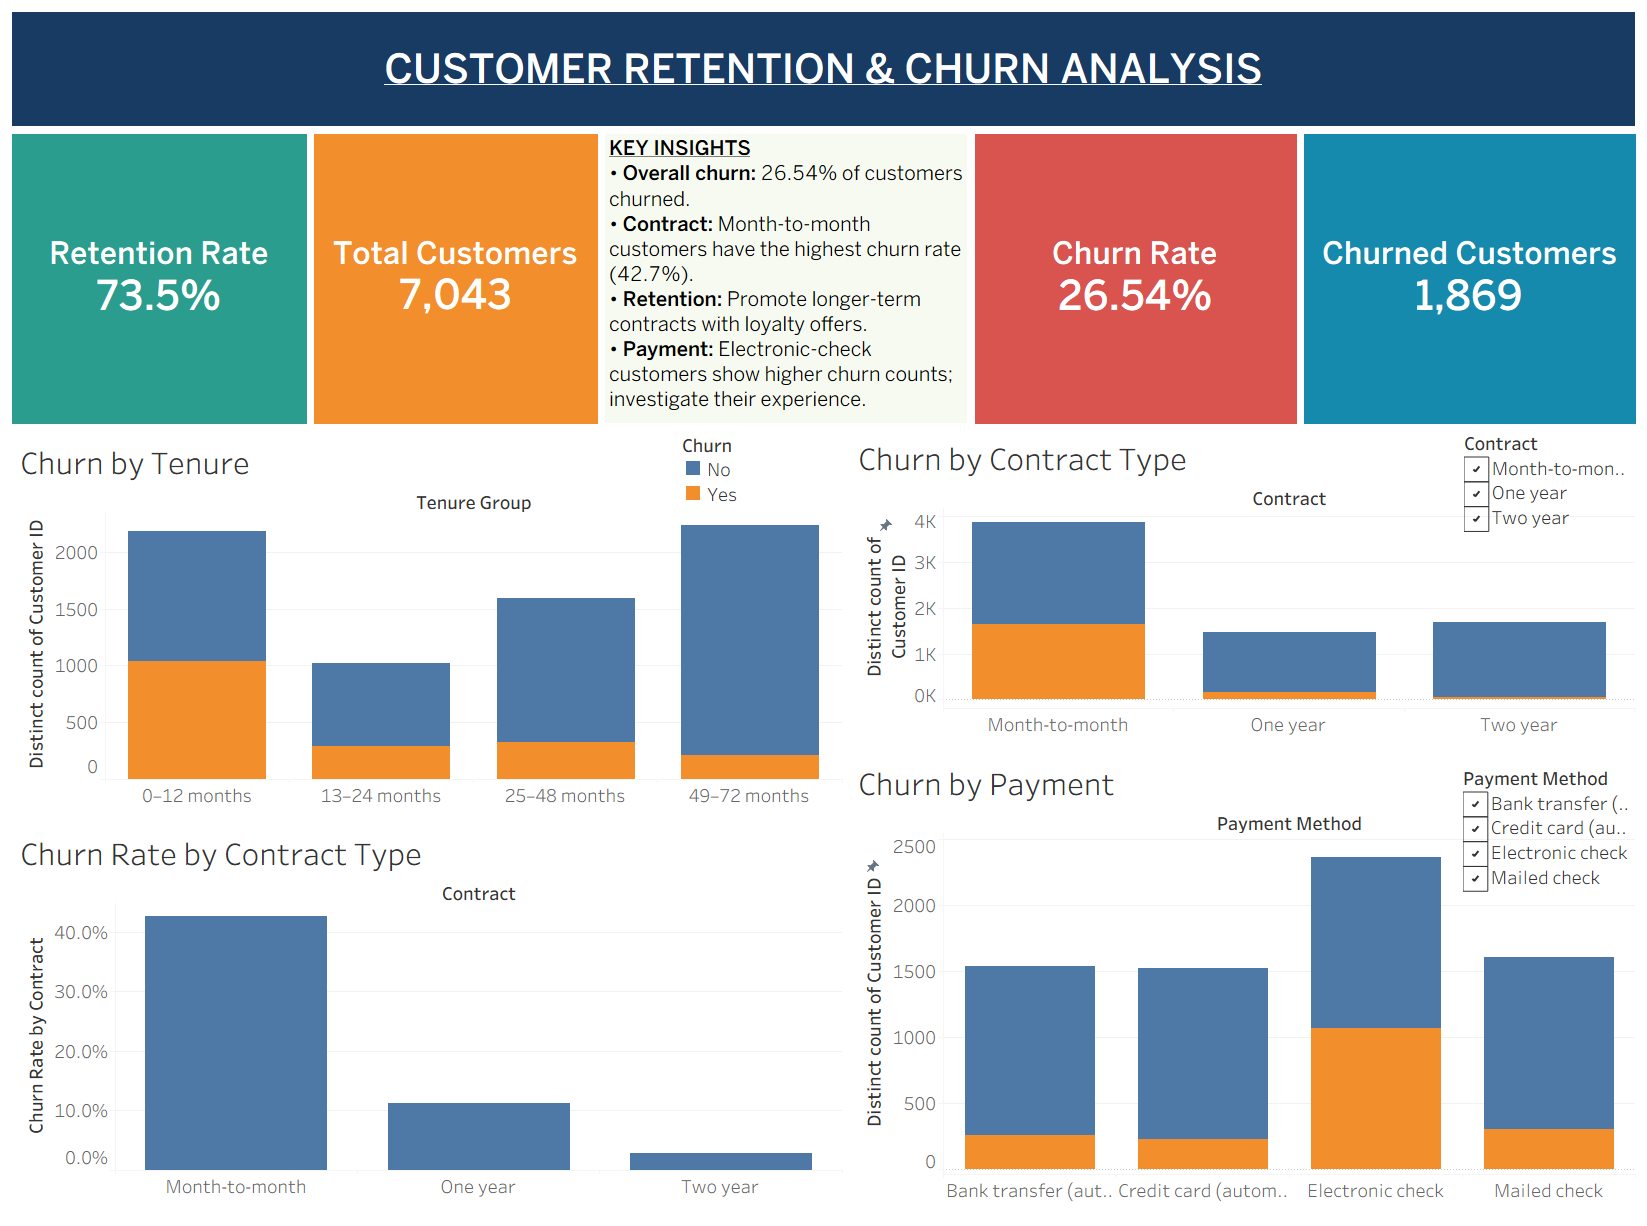

What the dashboard file says about the page in this screenshot:
{"tool":"tableau","page":{"name":"Dashboard 1","canvas":[1647,1226],"ordinal":0},"visuals":[{"type":"text","box":[8,8,1631,122.3]},{"type":"worksheet","title":"Retention Rate","mark":"Automatic","box":[8,130.3,302,296.7]},{"type":"worksheet","title":"Total Customers","mark":"Automatic","box":[310,130.3,291,296.7]},{"type":"text","box":[601,130.3,370,296.7]},{"type":"worksheet","title":"Churn Rate","mark":"Automatic","box":[971,130.3,329,296.7]},{"type":"worksheet","title":"Churned Customers","mark":"Automatic","box":[1300,130.3,339,296.7]},{"type":"worksheet","title":"Churn by Contract Type","mark":"Bar","rows":["customerID"],"cols":["Contract"],"box":[850,427,789,325]},{"type":"filter","title":"Churn Rate by Contract Type","param":"[federated.151535u0isl9la14sitns0xuhb5b].[none:Contract:nk]","box":[1464,429,168,148]},{"type":"legend","title":"Churn by Tenure","param":"[federated.151535u0isl9la14sitns0xuhb5b].[none:Churn:nk]","box":[681,430,140,76]},{"type":"worksheet","title":"Churn by Tenure","mark":"Automatic","rows":["customerID"],"cols":["Calculation_2685338603102213"],"box":[12,431,834,391.5]},{"type":"worksheet","title":"Churn by Payment","mark":"Automatic","rows":["customerID"],"cols":["PaymentMethod"],"box":[850,752,789,466]},{"type":"filter","title":"Churn by Payment","param":"[federated.151535u0isl9la14sitns0xuhb5b].[none:PaymentMethod:nk]","box":[1463,764,168,175]},{"type":"worksheet","title":"Churn Rate by Contract Type","mark":"Bar","rows":["Calculation_2685338602369028"],"cols":["Contract"],"box":[12,822.5,834,391.5]}]}

Visuals, with their boxes in screenshot pixels (x1, y1, x2, y2), scaled from the page's 1647x1226 canvas onto the 1647x1226 screenshot:
text: bbox=[8, 8, 1639, 130]
"Retention Rate" worksheet: bbox=[8, 130, 310, 427]
"Total Customers" worksheet: bbox=[310, 130, 601, 427]
text: bbox=[601, 130, 971, 427]
"Churn Rate" worksheet: bbox=[971, 130, 1300, 427]
"Churned Customers" worksheet: bbox=[1300, 130, 1639, 427]
"Churn by Contract Type" worksheet (Bar marks): bbox=[850, 427, 1639, 752]
"Churn Rate by Contract Type" filter: bbox=[1464, 429, 1632, 577]
"Churn by Tenure" legend: bbox=[681, 430, 821, 506]
"Churn by Tenure" worksheet: bbox=[12, 431, 846, 822]
"Churn by Payment" worksheet: bbox=[850, 752, 1639, 1218]
"Churn by Payment" filter: bbox=[1463, 764, 1631, 939]
"Churn Rate by Contract Type" worksheet (Bar marks): bbox=[12, 822, 846, 1214]
